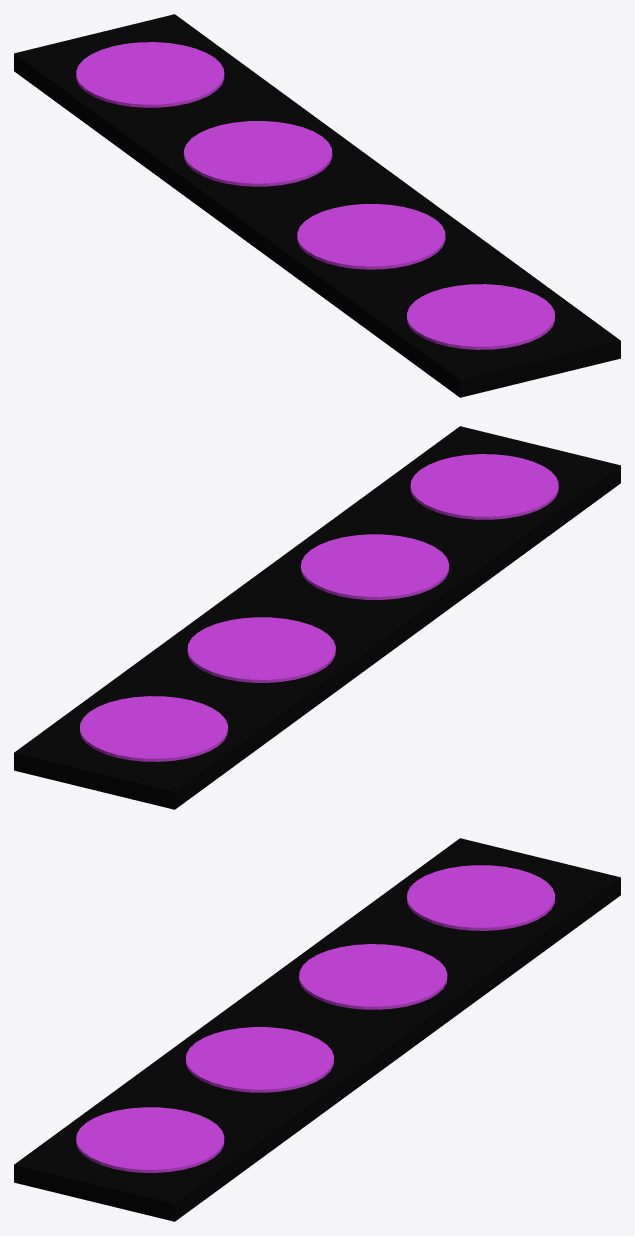
File: taptapx1.fbx
3 views of the same model, one above another, from view 1: azimuth 30°, elevation 25°; view 2: azimuth 150°, elevation 25°; view 3: azimuth 330°, elevation 25° (orthographic).
Parts seen in each view (by area): view 1: Cube, Cylinder, Cylinder.001, Cylinder.002, Cylinder.003; view 2: Cube, Cylinder.003, Cylinder.002, Cylinder, Cylinder.001; view 3: Cube, Cylinder.002, Cylinder, Cylinder.001, Cylinder.003.
Part boxes in pixels (box(x1,y1,x2,y2)): Cube: box(14, 14, 620, 397); Cylinder: box(407, 284, 554, 349); Cylinder.001: box(297, 204, 445, 269); Cylinder.002: box(184, 121, 332, 186); Cylinder.003: box(76, 42, 224, 107); Cube: box(14, 426, 620, 809); Cylinder.003: box(80, 696, 227, 761); Cylinder.002: box(187, 617, 335, 682); Cylinder: box(410, 454, 558, 519); Cylinder.001: box(301, 534, 449, 599); Cube: box(14, 838, 620, 1221); Cylinder.002: box(299, 944, 447, 1009); Cylinder: box(76, 1107, 224, 1172); Cylinder.001: box(185, 1027, 333, 1092); Cylinder.003: box(407, 865, 554, 930).
Size of the model in its own units: 200 by 24.88 by 961.
